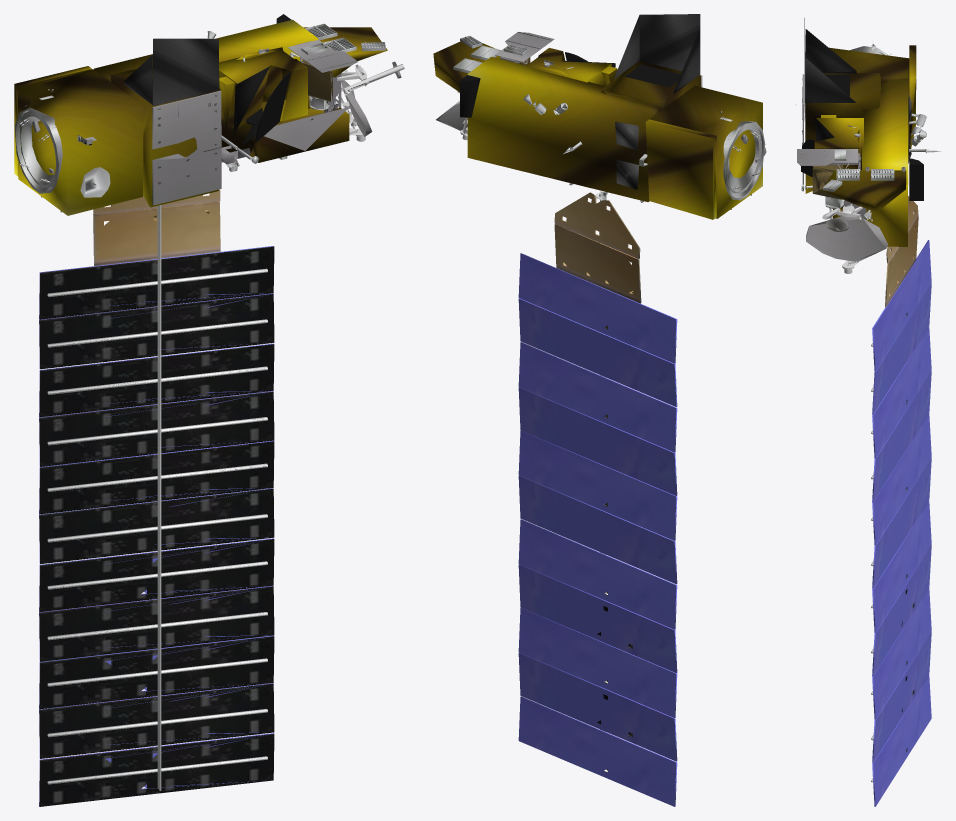
The model's file is aura-b.glb.
The picture shows the model from 3 angles, left to right: view 1: azimuth 30°, elevation 25°; view 2: azimuth 150°, elevation 25°; view 3: azimuth 270°, elevation 25°; orthographic projection. The views are drawn at different scales.
Parts seen in each view (by area): view 1: tex_01, foil_gold, shiny_panel, foil_silver, black_krinkle, tex_01d; view 2: shiny_panel, foil_gold, tex_01, foil_silver, black_krinkle; view 3: shiny_panel, foil_gold, tex_01, foil_silver, black_krinkle, tex_01d.
Boxes of the visible parts, box(x1,y1,x2,y2) form: tex_01: box(15, 23, 401, 806); foil_gold: box(14, 19, 387, 215); shiny_panel: box(39, 246, 274, 805); foil_silver: box(124, 38, 219, 106); black_krinkle: box(152, 14, 291, 144); tex_01d: box(290, 52, 404, 141); shiny_panel: box(518, 253, 677, 806); foil_gold: box(433, 41, 762, 219); tex_01: box(436, 31, 766, 799); foil_silver: box(613, 14, 700, 189); black_krinkle: box(460, 52, 680, 117); shiny_panel: box(872, 240, 931, 806); foil_gold: box(805, 45, 916, 246); tex_01: box(795, 41, 940, 782); foil_silver: box(804, 18, 911, 163); black_krinkle: box(801, 75, 923, 200); tex_01d: box(822, 157, 872, 273).
Bounding box in the file's own units: 8.65 × 18.7 × 3.42.
Materials: 6 (4 with a texture image).
